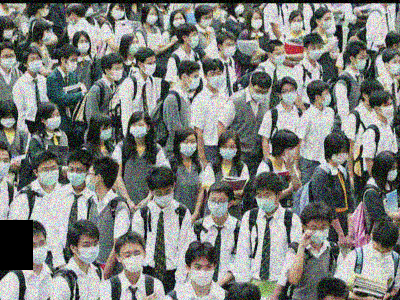with_mask: (188, 261, 215, 287), (23, 239, 48, 265), (76, 239, 99, 265), (121, 248, 143, 273), (305, 223, 330, 245), (254, 190, 277, 213), (64, 164, 86, 188), (206, 197, 228, 218), (152, 187, 174, 208), (38, 164, 58, 186), (177, 139, 198, 157), (218, 143, 238, 161), (330, 147, 349, 165), (370, 247, 392, 262), (43, 112, 61, 130), (128, 121, 146, 139), (377, 101, 394, 119), (281, 86, 297, 105), (26, 55, 42, 74), (307, 42, 323, 61), (207, 70, 223, 88), (84, 169, 96, 192), (97, 124, 113, 141), (0, 53, 15, 70), (251, 88, 269, 102), (186, 72, 200, 90), (142, 59, 156, 77), (222, 40, 236, 58), (271, 49, 285, 67), (385, 165, 398, 184), (280, 147, 295, 163), (353, 53, 367, 70), (250, 14, 263, 31), (0, 156, 10, 178), (289, 17, 303, 32), (109, 6, 124, 20), (0, 115, 16, 128), (110, 65, 123, 81), (65, 57, 78, 73), (76, 38, 89, 54), (127, 39, 139, 56), (320, 90, 331, 108), (188, 31, 199, 48), (199, 14, 212, 28), (145, 11, 158, 25), (389, 58, 399, 76), (1, 26, 13, 40), (320, 15, 332, 29), (172, 16, 185, 28), (39, 4, 49, 18), (42, 28, 51, 42), (234, 4, 244, 16), (65, 14, 75, 25)
